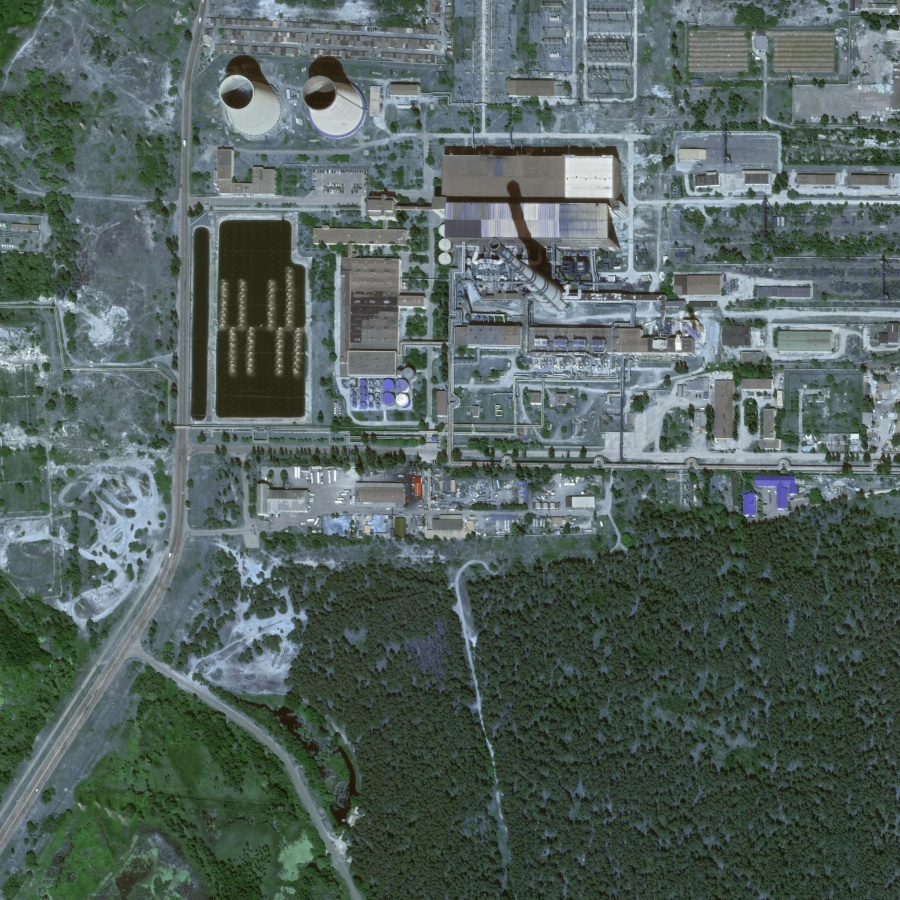PowerPlant: (180, 32, 633, 432)
